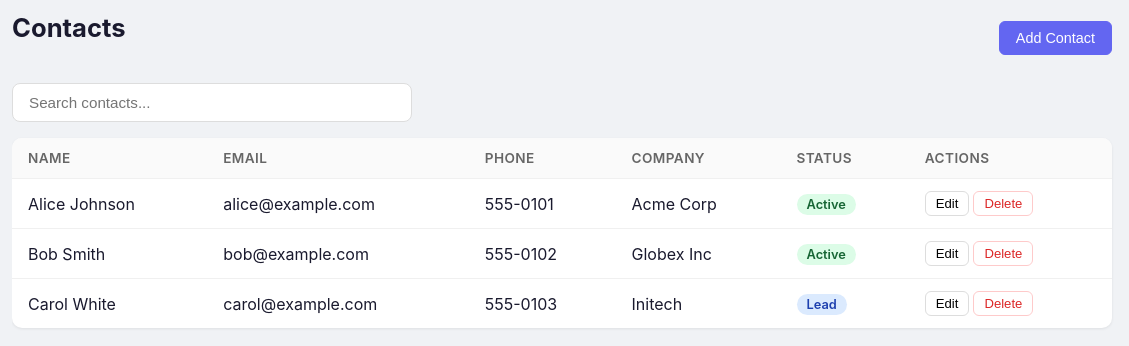
Test: Contacts › shows empty message when no contacts match
The image size is (1129, 346).
Step 1. Type "zzzzz" into the field with placeholder "Search contacts..." → {"x": 212, "y": 102}, box [12,83,412,122]
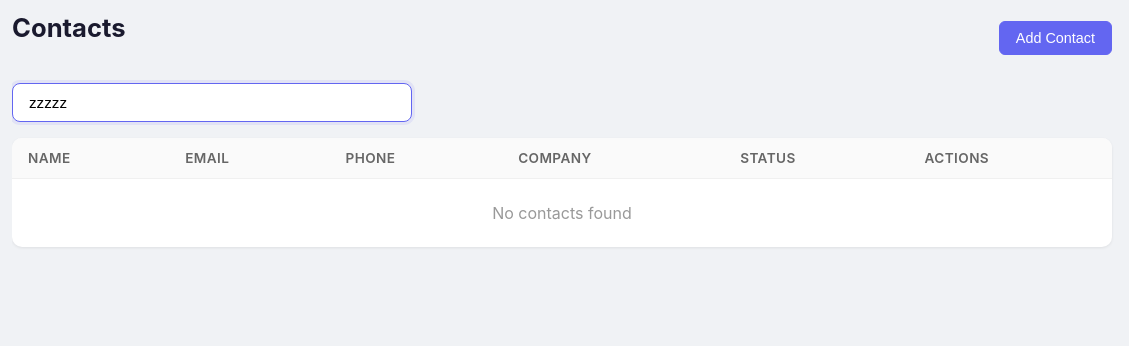
Now the text "No contacts found" is shown, box [12,178,1112,247]
